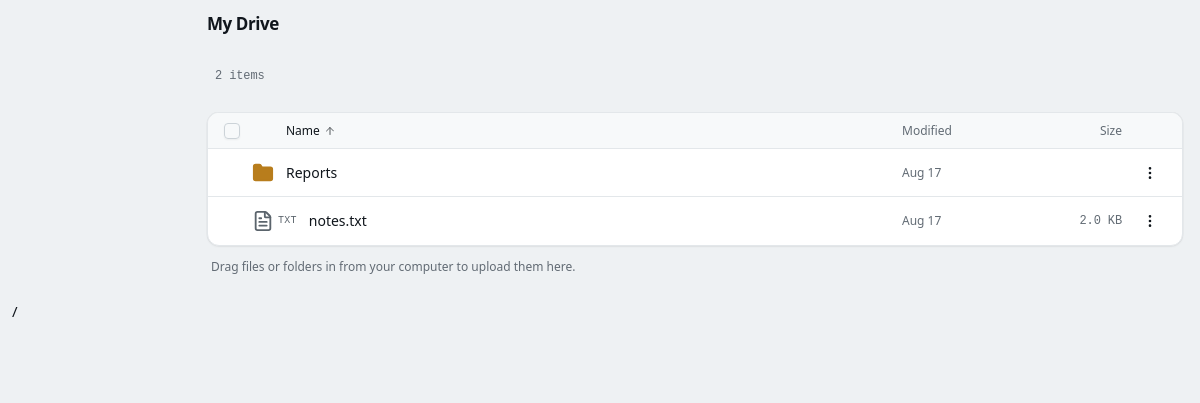
Scenario: rows › walks into a folder from its name
Check: the link "notes.txt" is shown, box [309,211,367,230]
Click the link "Reports". click: (312, 172)
box: [286,163,337,182]
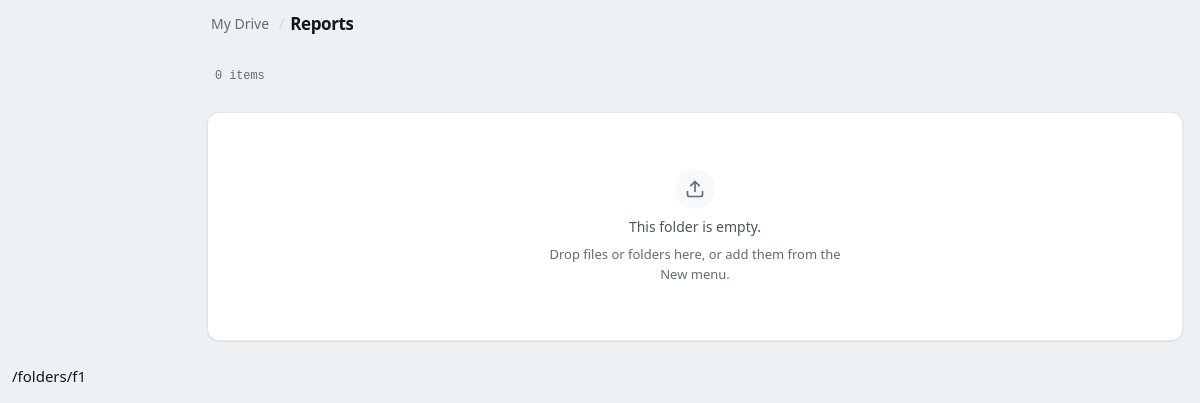
Check: the text with test id "where" reads "/folders/f1", box [12,366,86,386]
